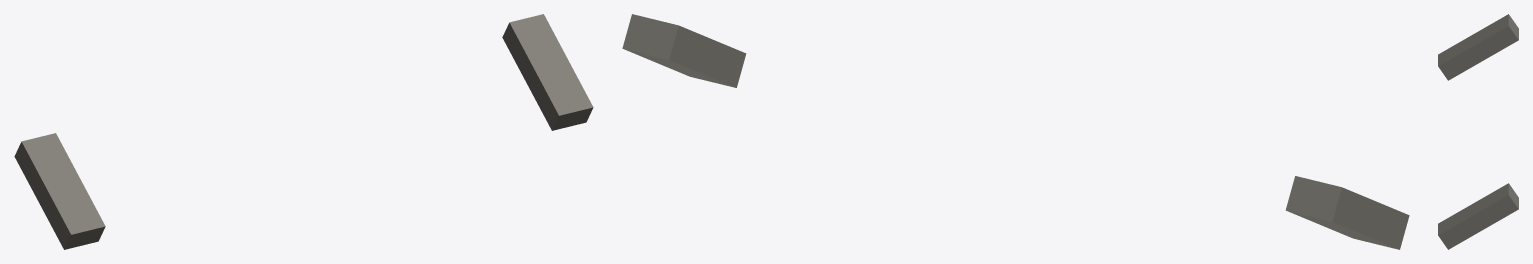
The model's file is OA_Stair_Stringer_Join.fbx.
3 views of the same model, side by side, from view 1: azimuth 30°, elevation 25°; view 2: azimuth 150°, elevation 25°; view 3: azimuth 270°, elevation 25° (orthographic). The views are drawn at different scales.
Visible parts, largest first — view 1: OA_Stair_Stringer_Join; view 2: OA_Stair_Stringer_Join; view 3: OA_Stair_Stringer_Join.
Part boxes in pixels (x1,y1,x2,y2): OA_Stair_Stringer_Join: (14, 14, 593, 249); OA_Stair_Stringer_Join: (622, 14, 1409, 249); OA_Stair_Stringer_Join: (1438, 14, 1518, 249).
Size of the model in its own units: 1.82 by 0.2576 by 0.3428.
1 material, 1 textured.
